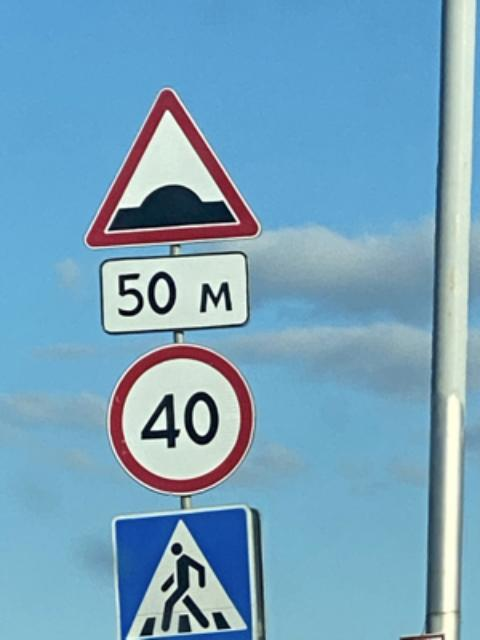crosswalk-sign: (109, 503, 265, 639)
